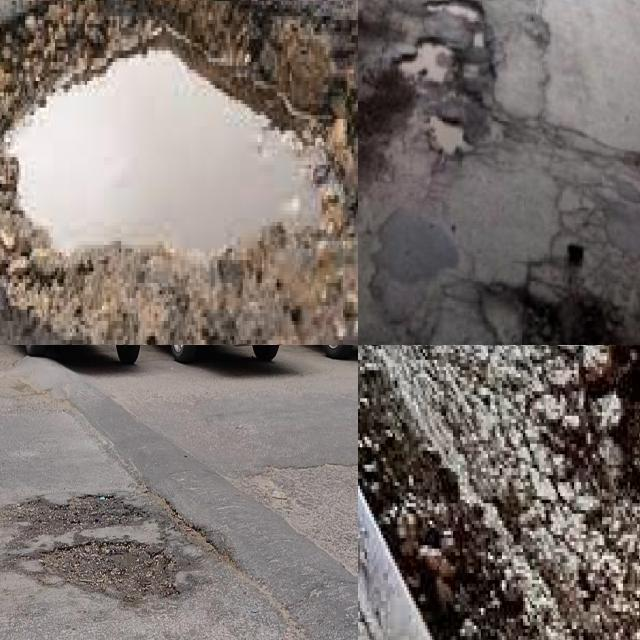Pothole: (0, 16, 332, 291), (519, 345, 640, 611), (513, 244, 629, 345), (39, 545, 180, 604), (21, 491, 146, 539), (399, 40, 453, 85), (427, 115, 475, 157), (426, 0, 486, 25), (475, 34, 487, 48), (467, 66, 478, 75)
